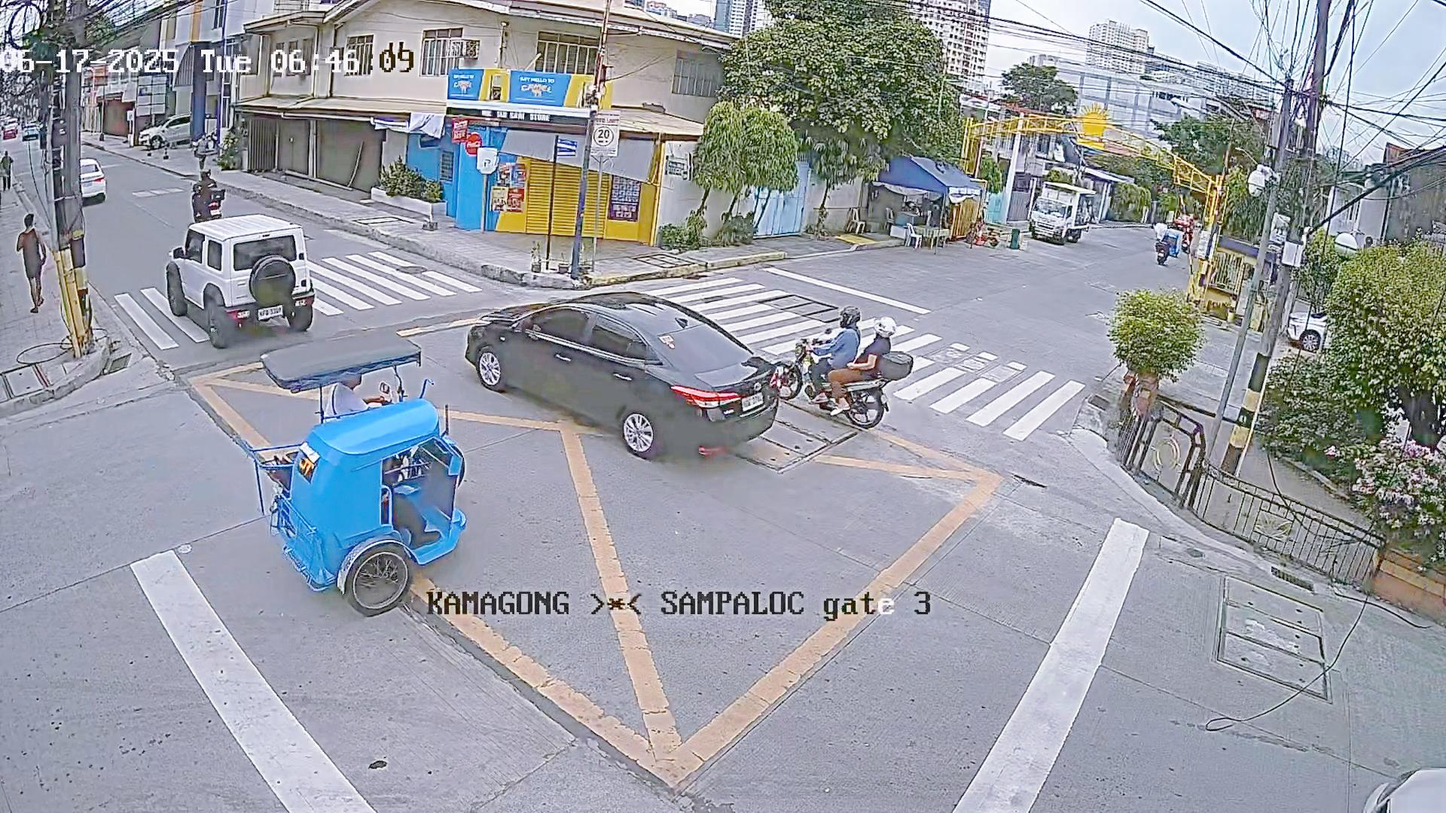Car: (437, 271, 794, 474), (117, 187, 375, 357), (1021, 164, 1101, 259)
Motor: (765, 300, 928, 441), (169, 156, 244, 210)
